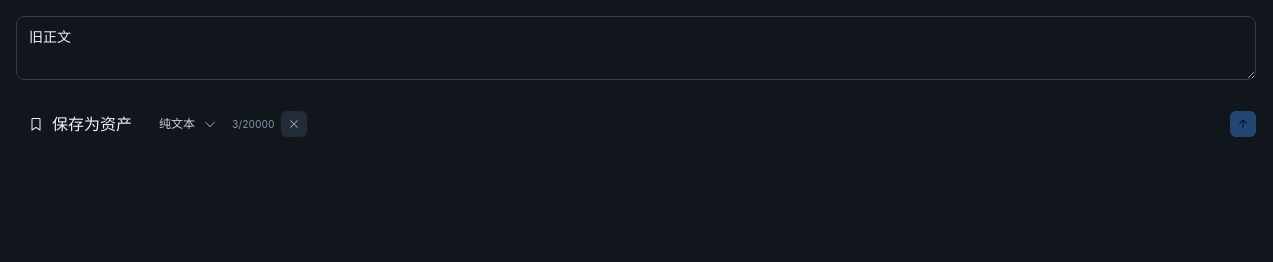
retains unsaved text and does not save an older asset if the text CAS conflicts
The image size is (1273, 262).
Type "本地修改" into the text box named "内容" at (636,48), box left=16, top=16, right=1256, bottom=80
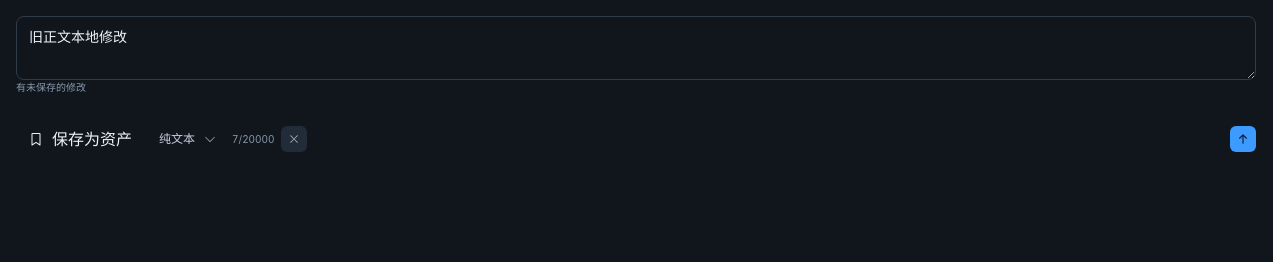
Click the button "保存为资产" at (80,139), box left=16, top=121, right=144, bottom=157
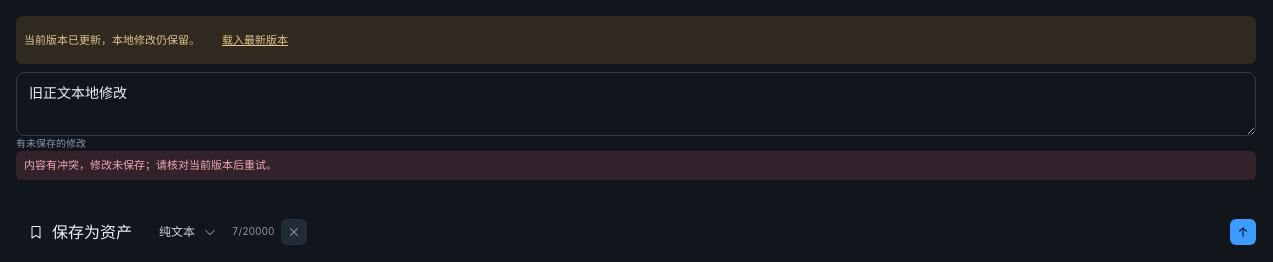
Check: the text box named "内容" holds "旧正文本地修改", box left=16, top=72, right=1256, bottom=136
Check: the message "内容有冲突，修改未保存；请核对当前版本后重试。" is shown, box left=16, top=151, right=1256, bottom=180
